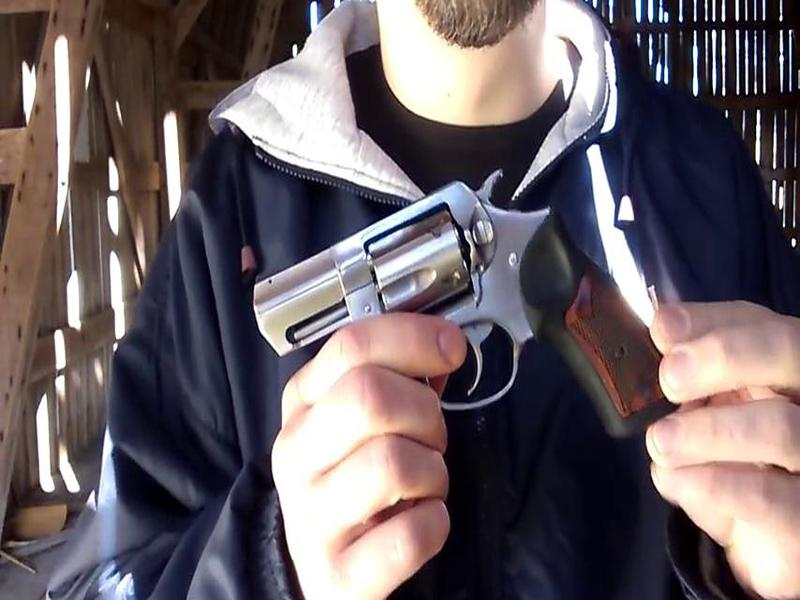Revolver: (245, 165, 647, 427)
